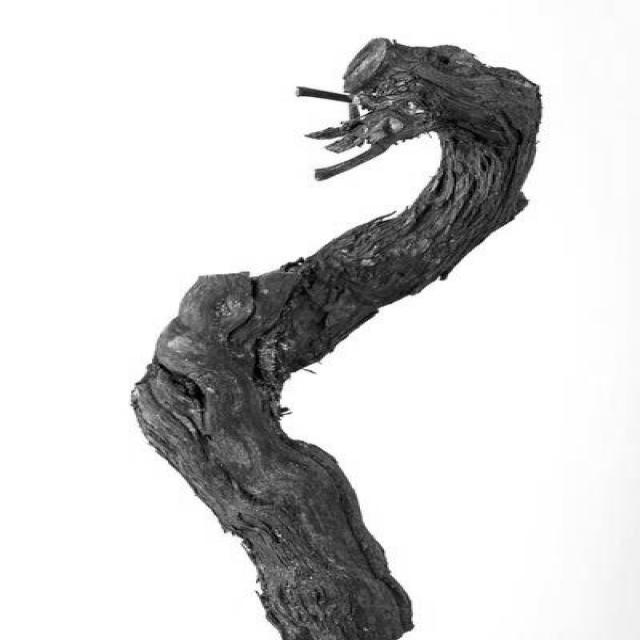Tree: (132, 38, 542, 640)
